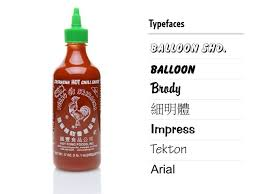bottle: (48, 4, 111, 177)
